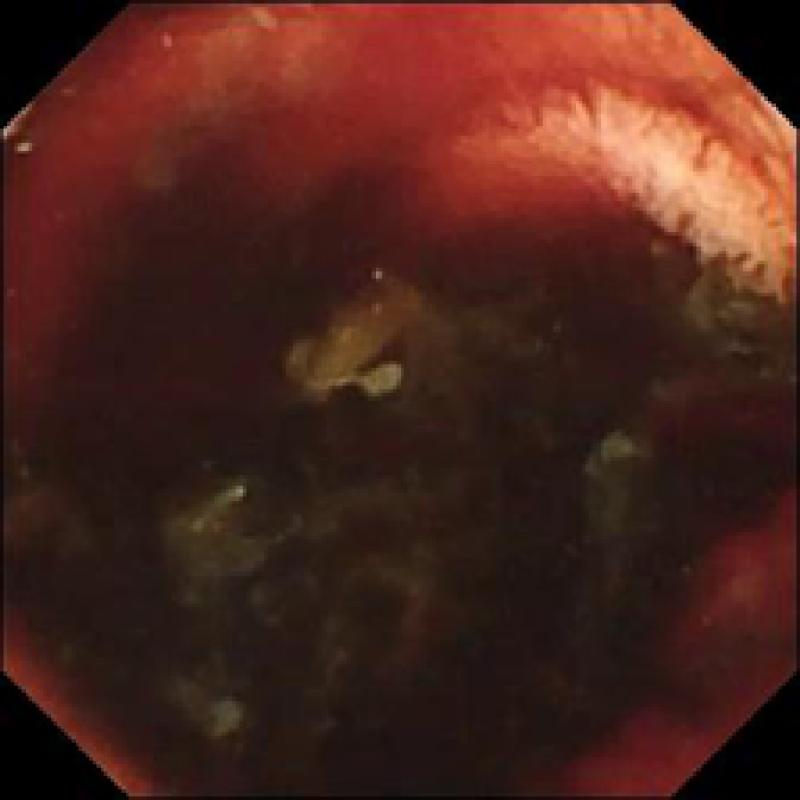bleeding: (7, 0, 753, 314), (579, 476, 798, 800), (1, 635, 158, 794)
